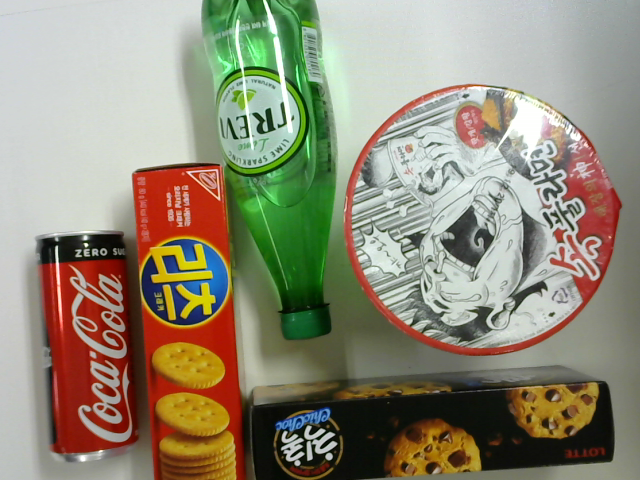Chicchok_Original_2400: (245, 366, 617, 480)
Coca_Cola_Zero_Can_250ml: (33, 230, 139, 472)
Hejangpul: (345, 82, 621, 352)
Ritz_Cracker: (131, 156, 252, 480)
Treviraim_500ml: (193, 4, 347, 346)
